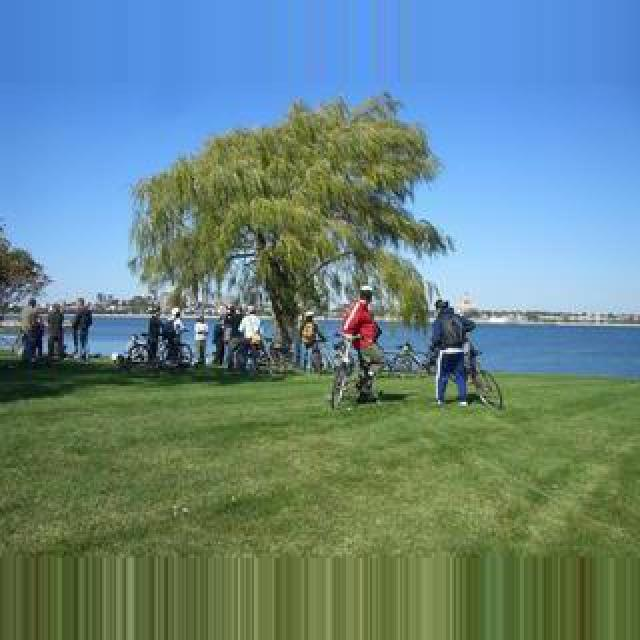MC-Bike: (428, 298, 478, 408), (340, 286, 384, 404)
Person: (328, 334, 392, 408), (118, 340, 192, 376), (462, 348, 504, 410)
